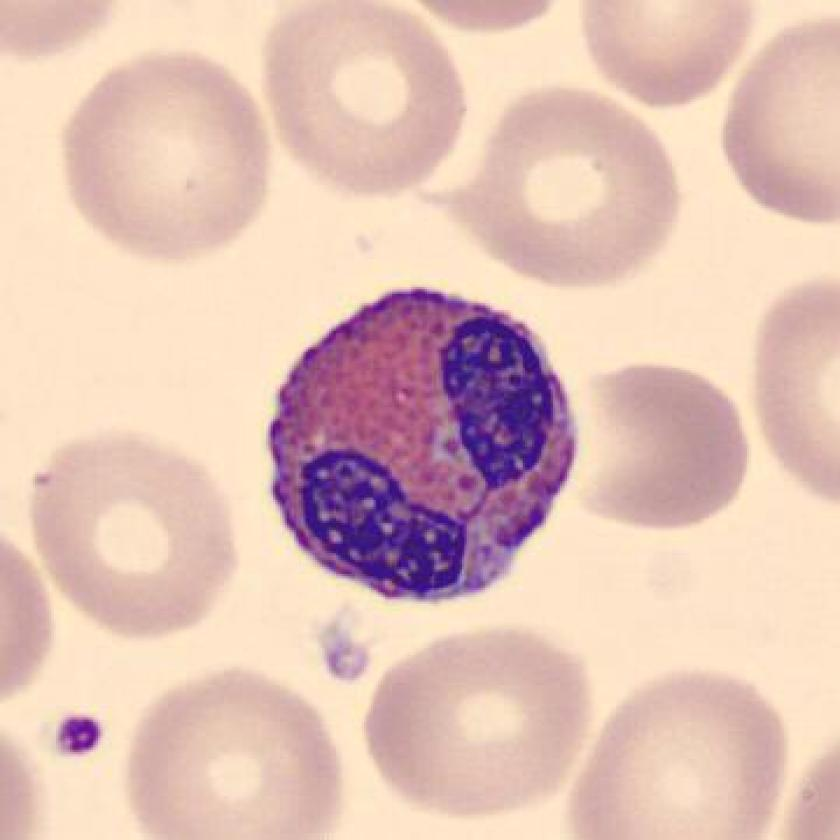eosinophil: (256, 272, 592, 617)
